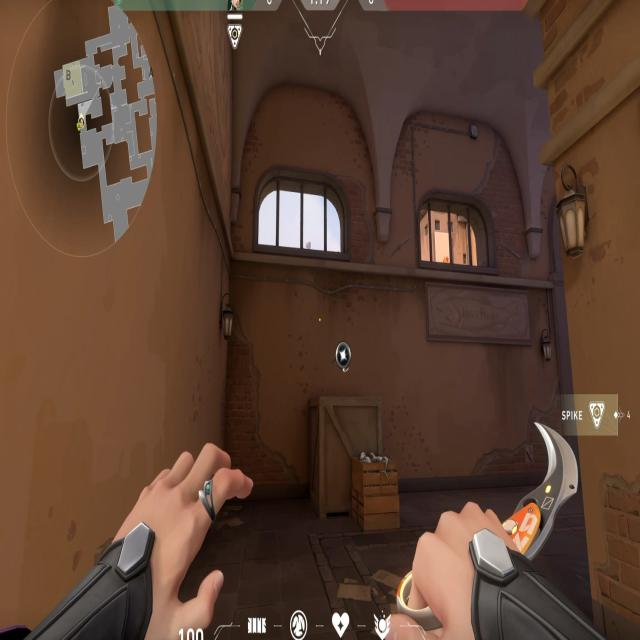B_Main_Wallbang: (303, 330, 408, 542)
Throwables: (248, 150, 356, 281), (410, 180, 503, 288)
